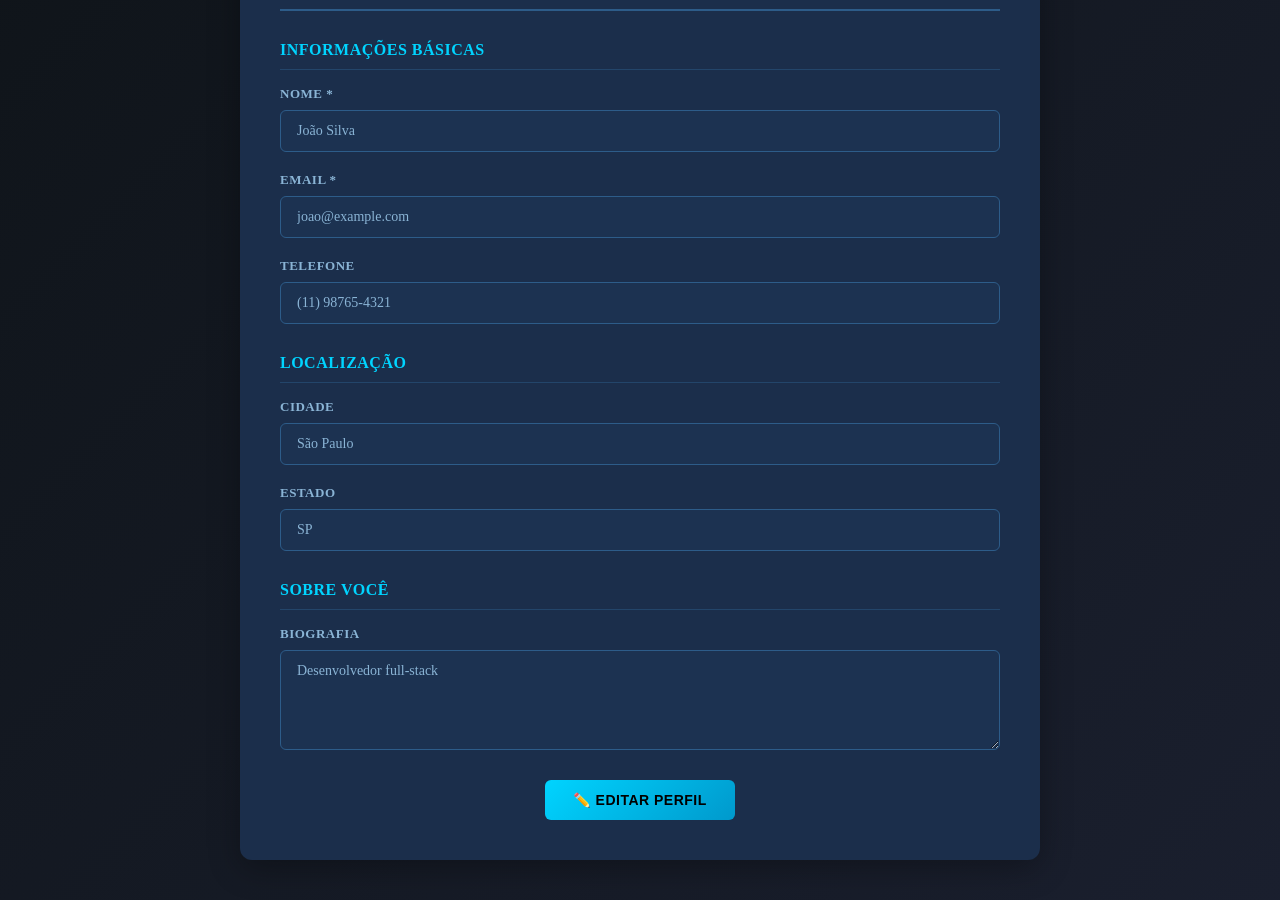
Test case: Componente Perfil › muda para modo de edição ao clicar em Editar
The width and height of the screenshot is (1280, 900).
(page scrolled)
Expected: the field showing "João Silva" is shown, [280, 110, 1000, 152]
Click the button "✏️ Editar Perfil" at coordinates (640, 800), box [545, 780, 735, 820]
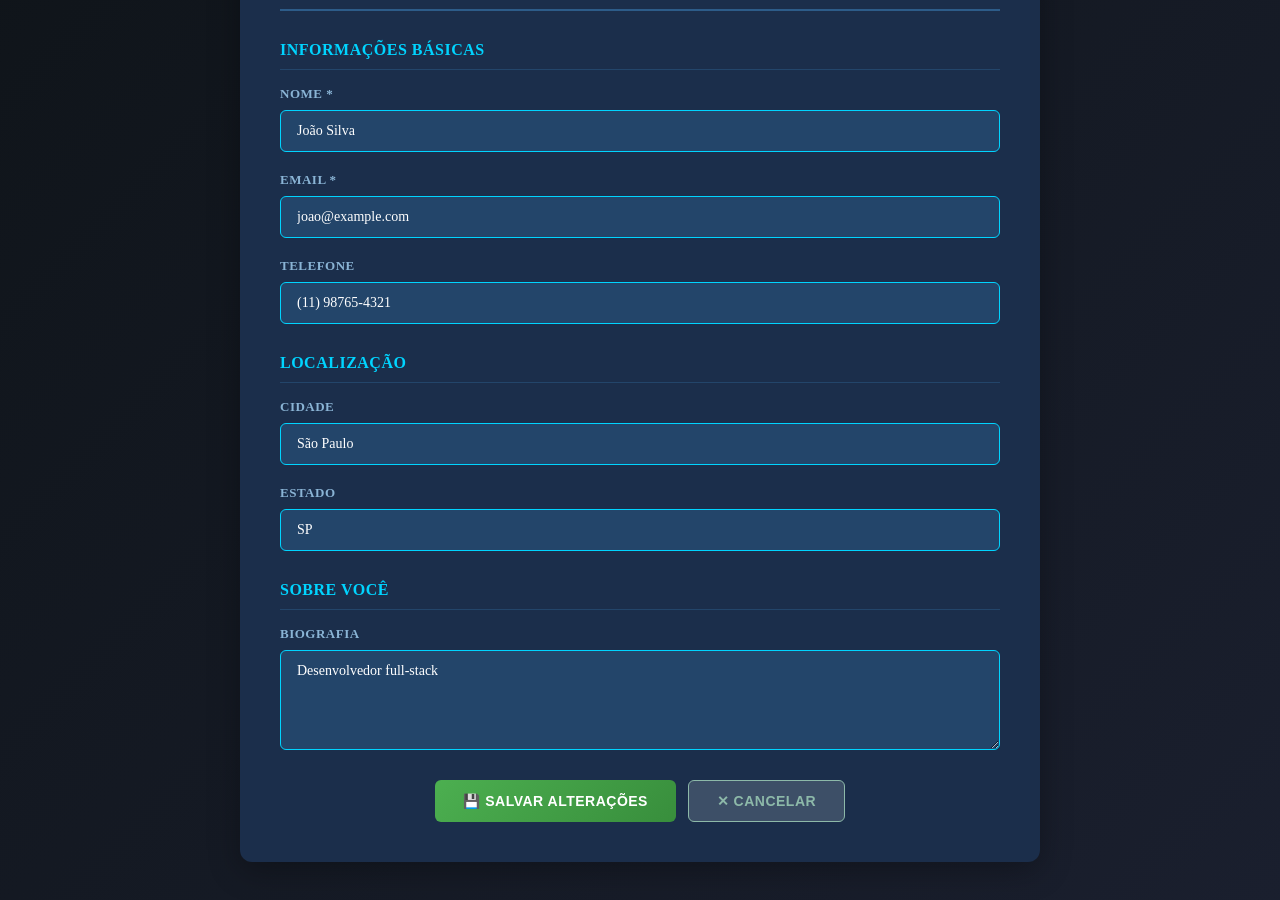
Result: the field showing "João Silva" is enabled at [280, 110, 1000, 152]
